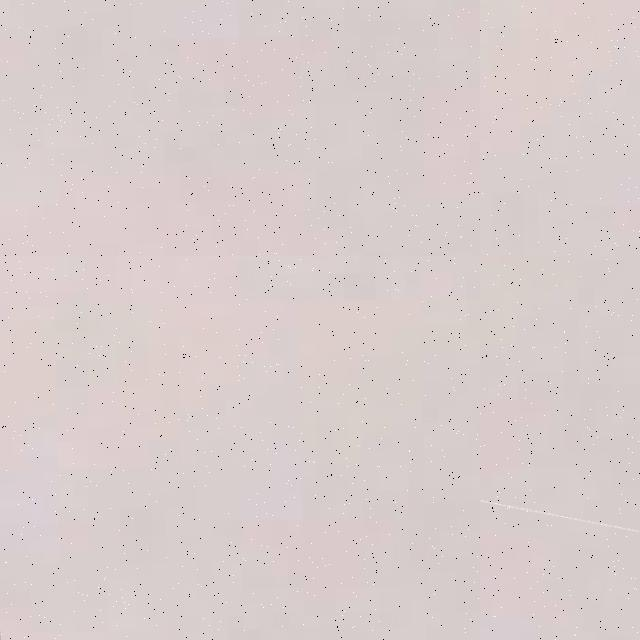drone: (480, 467, 640, 640)
